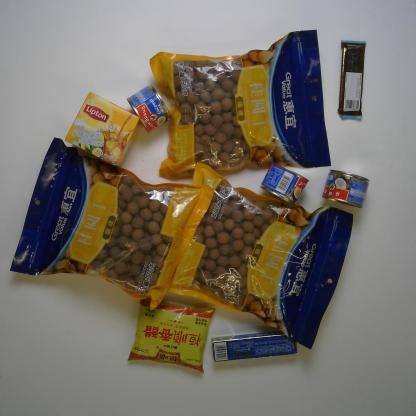Canned Food: (125, 83, 172, 135), (259, 162, 309, 206), (320, 169, 370, 209)
Chocolate: (336, 40, 368, 120)
Dried Food: (9, 137, 215, 311), (166, 162, 354, 350), (147, 27, 332, 182)
Instant Drink: (64, 90, 141, 168)
Personal Hygiene: (211, 330, 299, 363)
Seasoner: (126, 296, 216, 374)
